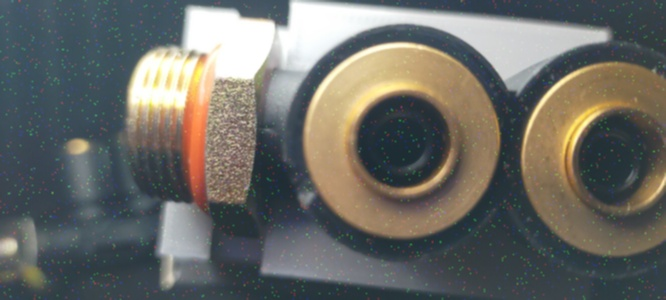bump: (281, 155, 320, 215)
white mark: (257, 119, 280, 138)
